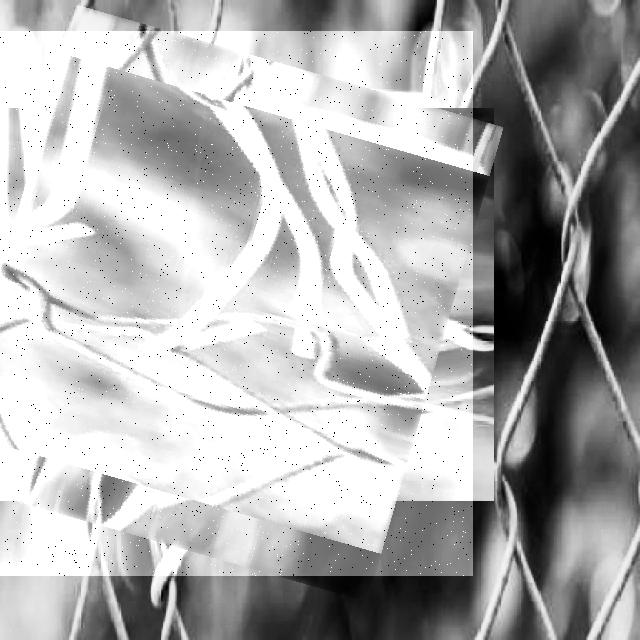anomaly-fence: (0, 31, 473, 576)
